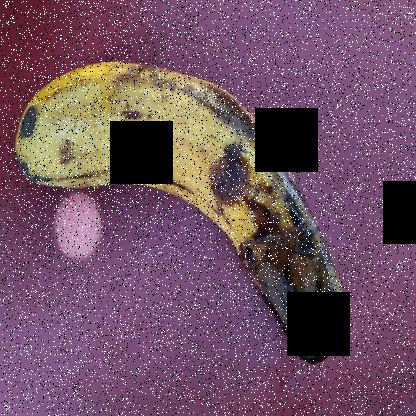rotten: (2, 27, 356, 384)
